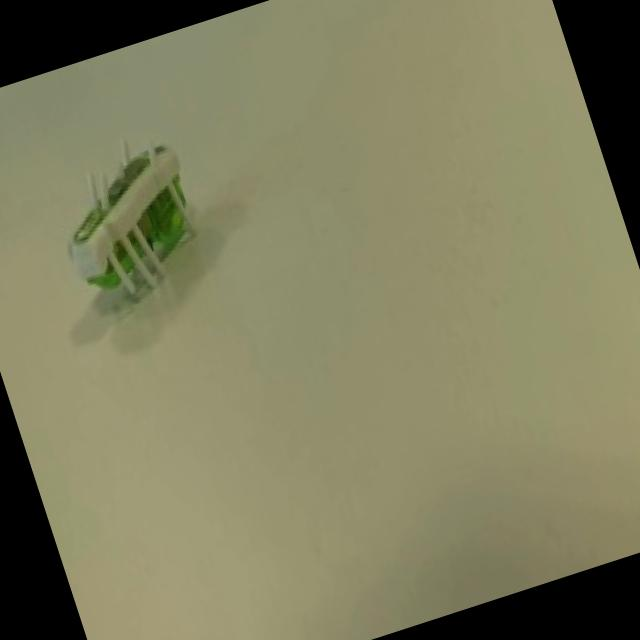4_NanoBug_Blanco: (18, 80, 264, 366)
